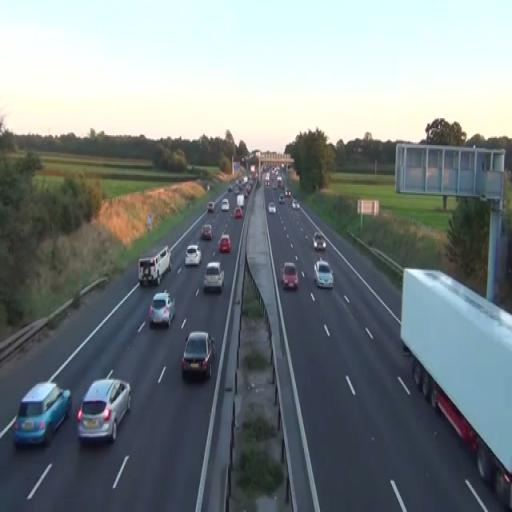Car: (13, 380, 72, 449), (77, 377, 132, 446), (181, 331, 216, 382), (148, 292, 176, 330), (203, 262, 225, 294), (314, 259, 334, 289), (282, 262, 298, 290), (184, 244, 202, 268), (313, 232, 327, 253), (218, 235, 231, 253), (200, 225, 214, 240)
Truck: (400, 268, 512, 506), (138, 246, 172, 286)
